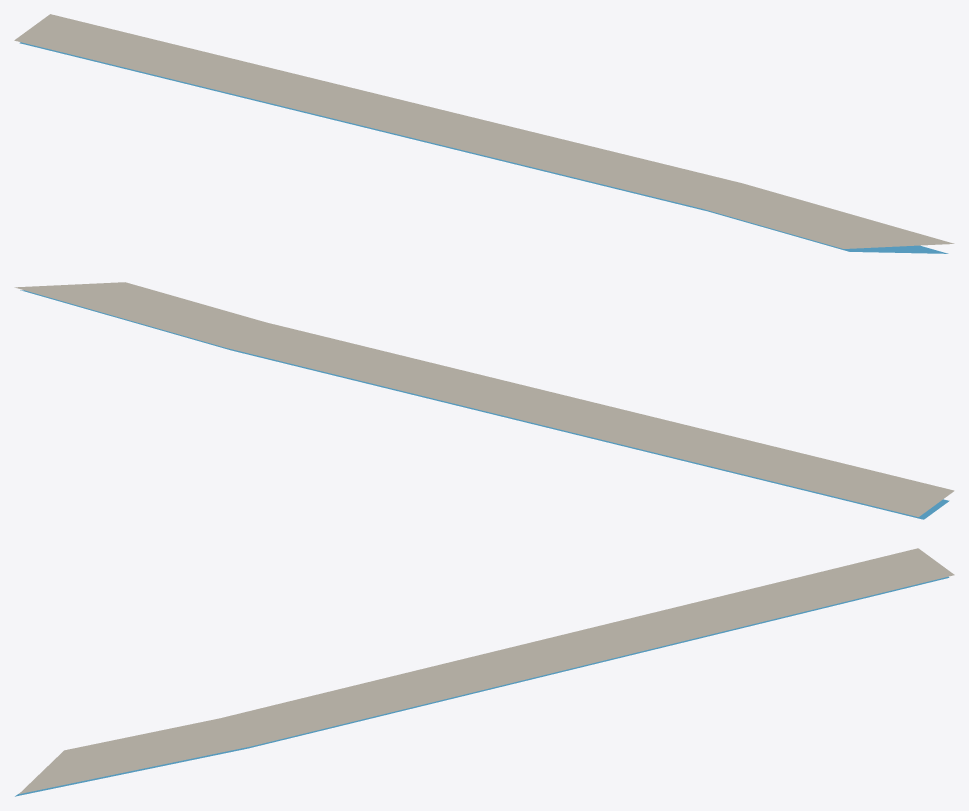
The picture shows the model from 3 angles, top to bottom: view 1: azimuth 30°, elevation 25°; view 2: azimuth 210°, elevation 25°; view 3: azimuth 270°, elevation 25°; orthographic projection.
Parts seen in each view (by area): view 1: estructura_terreno, estructura_agua; view 2: estructura_terreno, estructura_agua; view 3: estructura_terreno, estructura_agua.
Boxes of the visible parts, x1,y1,x2,y2 form: estructura_terreno: [14, 14, 954, 248]; estructura_agua: [19, 42, 948, 253]; estructura_terreno: [14, 282, 954, 516]; estructura_agua: [20, 290, 949, 519]; estructura_terreno: [19, 548, 954, 793]; estructura_agua: [15, 576, 949, 796].
Size of the model in its own units: 33.29 by 0.41 by 53.78.
